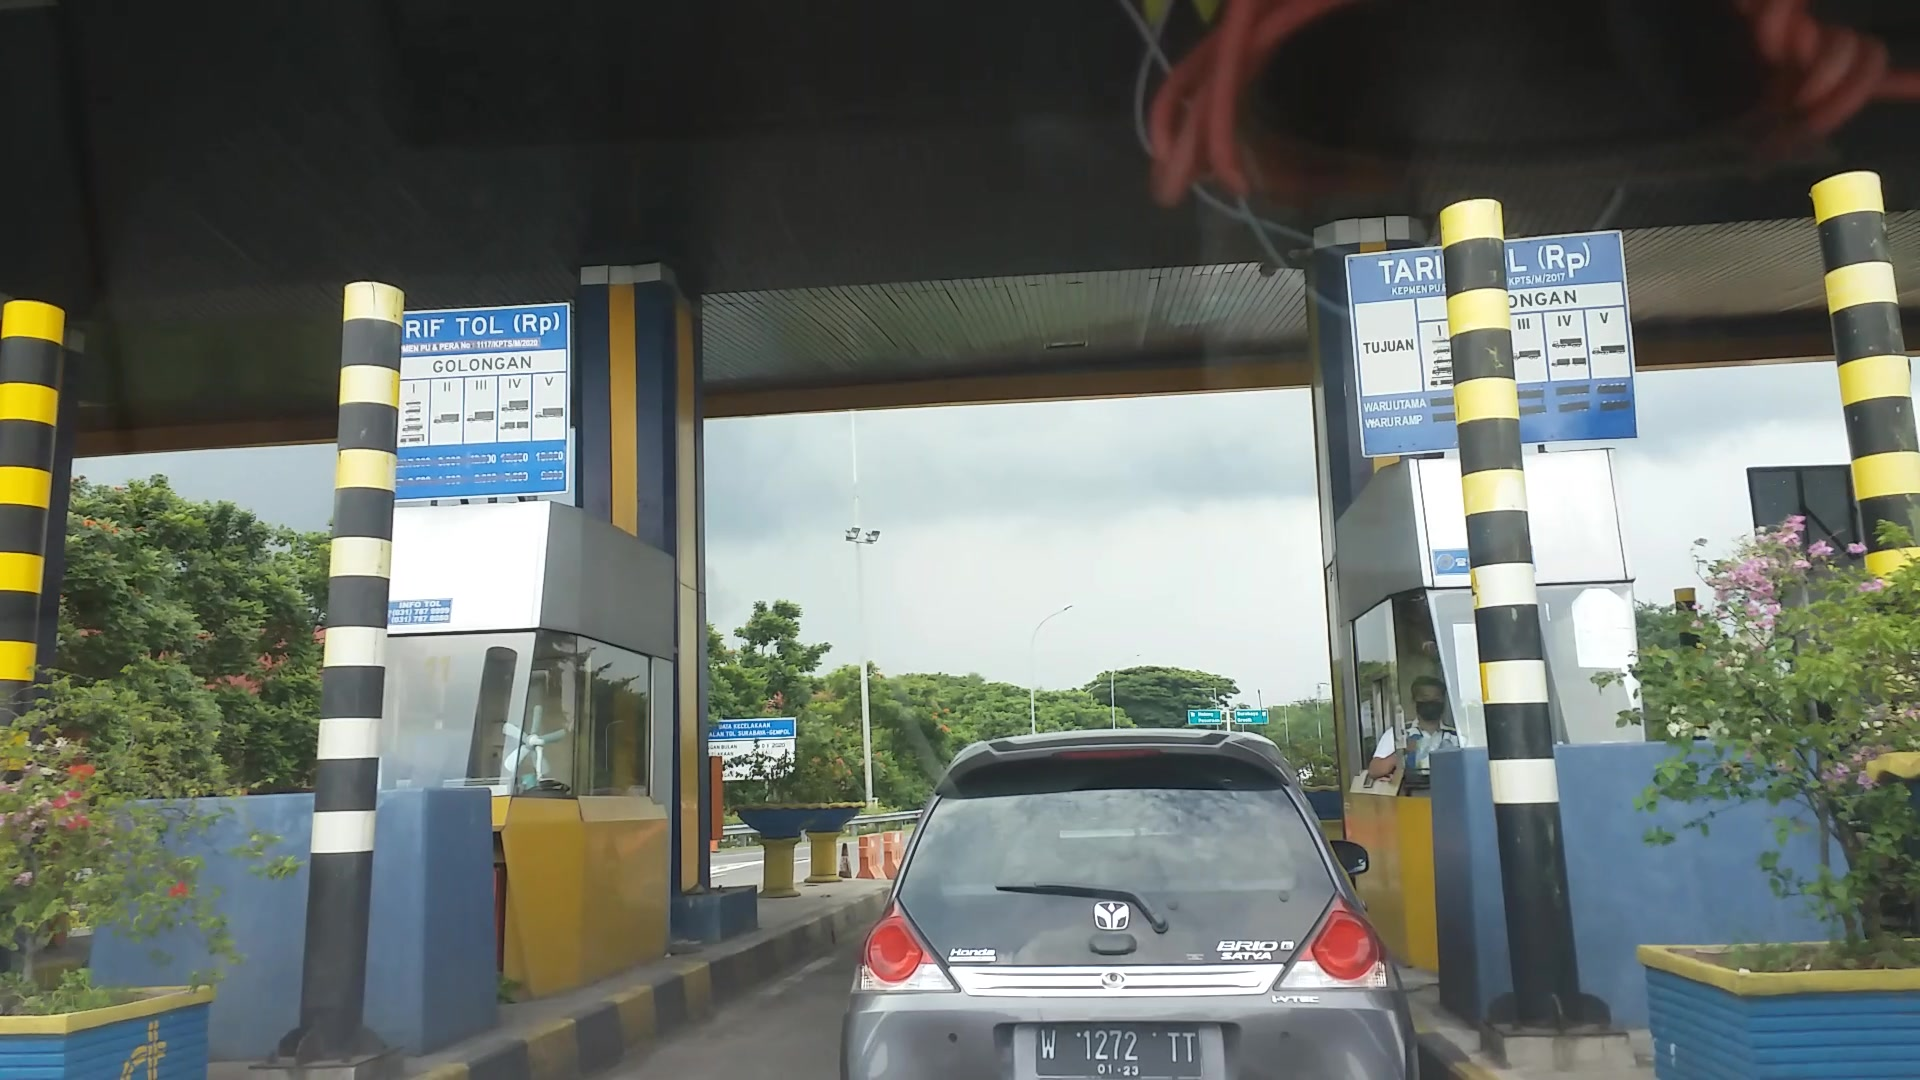plate_positive: (1036, 1021, 1203, 1077)
